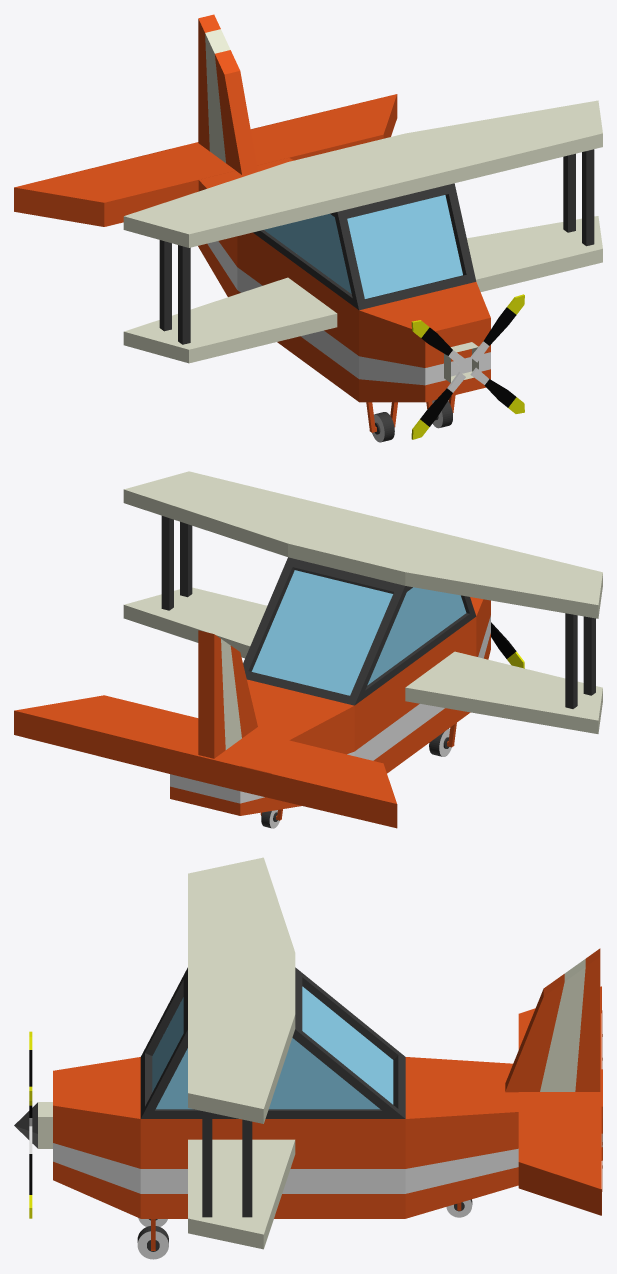
3 renders of one model, top to bottom at view 1: azimuth 30°, elevation 25°; view 2: azimuth 150°, elevation 25°; view 3: azimuth 270°, elevation 25°, orthographic. The views are drawn at different scales.
Visible parts, largest first — view 1: Object_4, Object_8, Object_6, Object_5, Object_9, Object_7, Object_19, Object_20, Object_18, Object_14; view 2: Object_4, Object_8, Object_6, Object_5, Object_9, Object_7; view 3: Object_8, Object_4, Object_5, Object_6, Object_7, Object_9, Object_11.
Part boxes in pixels (x1=…): Object_4: x1=123, y1=29, x2=602, y2=382; Object_8: x1=14, y1=94, x2=490, y2=402; Object_6: x1=264, y1=195, x2=462, y2=298; Object_5: x1=159, y1=149, x2=594, y2=344; Object_9: x1=198, y1=14, x2=257, y2=175; Object_7: x1=207, y1=241, x2=490, y2=385; Object_19: x1=420, y1=307, x2=516, y2=426; Object_20: x1=411, y1=294, x2=524, y2=439; Object_18: x1=447, y1=341, x2=502, y2=403; Object_14: x1=375, y1=400, x2=452, y2=441; Object_4: x1=123, y1=471, x2=602, y2=749; Object_8: x1=14, y1=597, x2=490, y2=828; Object_6: x1=251, y1=570, x2=466, y2=695; Object_5: x1=161, y1=516, x2=595, y2=708; Object_9: x1=198, y1=630, x2=257, y2=758; Object_7: x1=170, y1=615, x2=490, y2=803; Object_8: x1=53, y1=986, x2=602, y2=1218; Object_4: x1=38, y1=857, x2=585, y2=1249; Object_5: x1=14, y1=967, x2=405, y2=1217; Object_6: x1=152, y1=986, x2=393, y2=1109; Object_7: x1=53, y1=1133, x2=602, y2=1193; Object_9: x1=505, y1=948, x2=600, y2=1092; Object_11: x1=137, y1=1200, x2=472, y2=1259.
Bounding box in the file's own units: 3.4 × 1.82 × 3.36.
